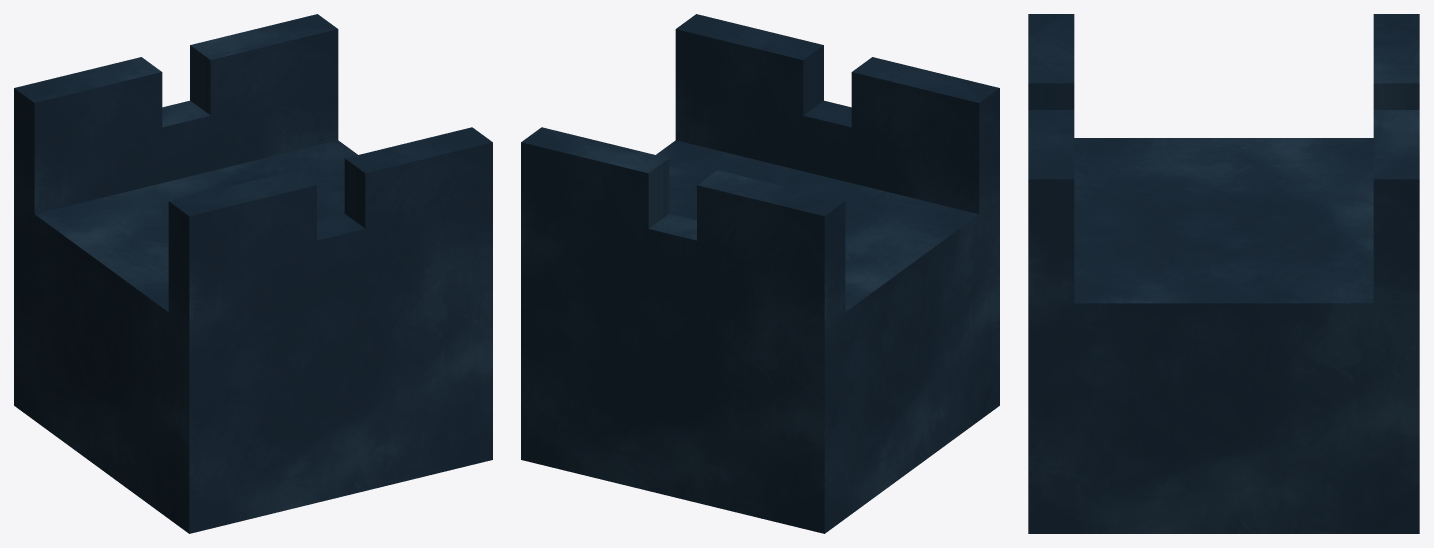
File: Wall Variant B2.fbx
3 renders of one model, left to right at view 1: azimuth 30°, elevation 25°; view 2: azimuth 150°, elevation 25°; view 3: azimuth 270°, elevation 25°, orthographic. The views are drawn at different scales.
Parts seen in each view (by area): view 1: Plane019; view 2: Plane019; view 3: Plane019.
Boxes of the visible parts, left/top/right/bottom form: Plane019: left=14, top=14, right=492, bottom=533; Plane019: left=521, top=14, right=999, bottom=533; Plane019: left=1028, top=14, right=1419, bottom=533.
Bounding box in the file's own units: 39.37 × 39.37 × 39.37.
Materials: 1 (1 with a texture image).
